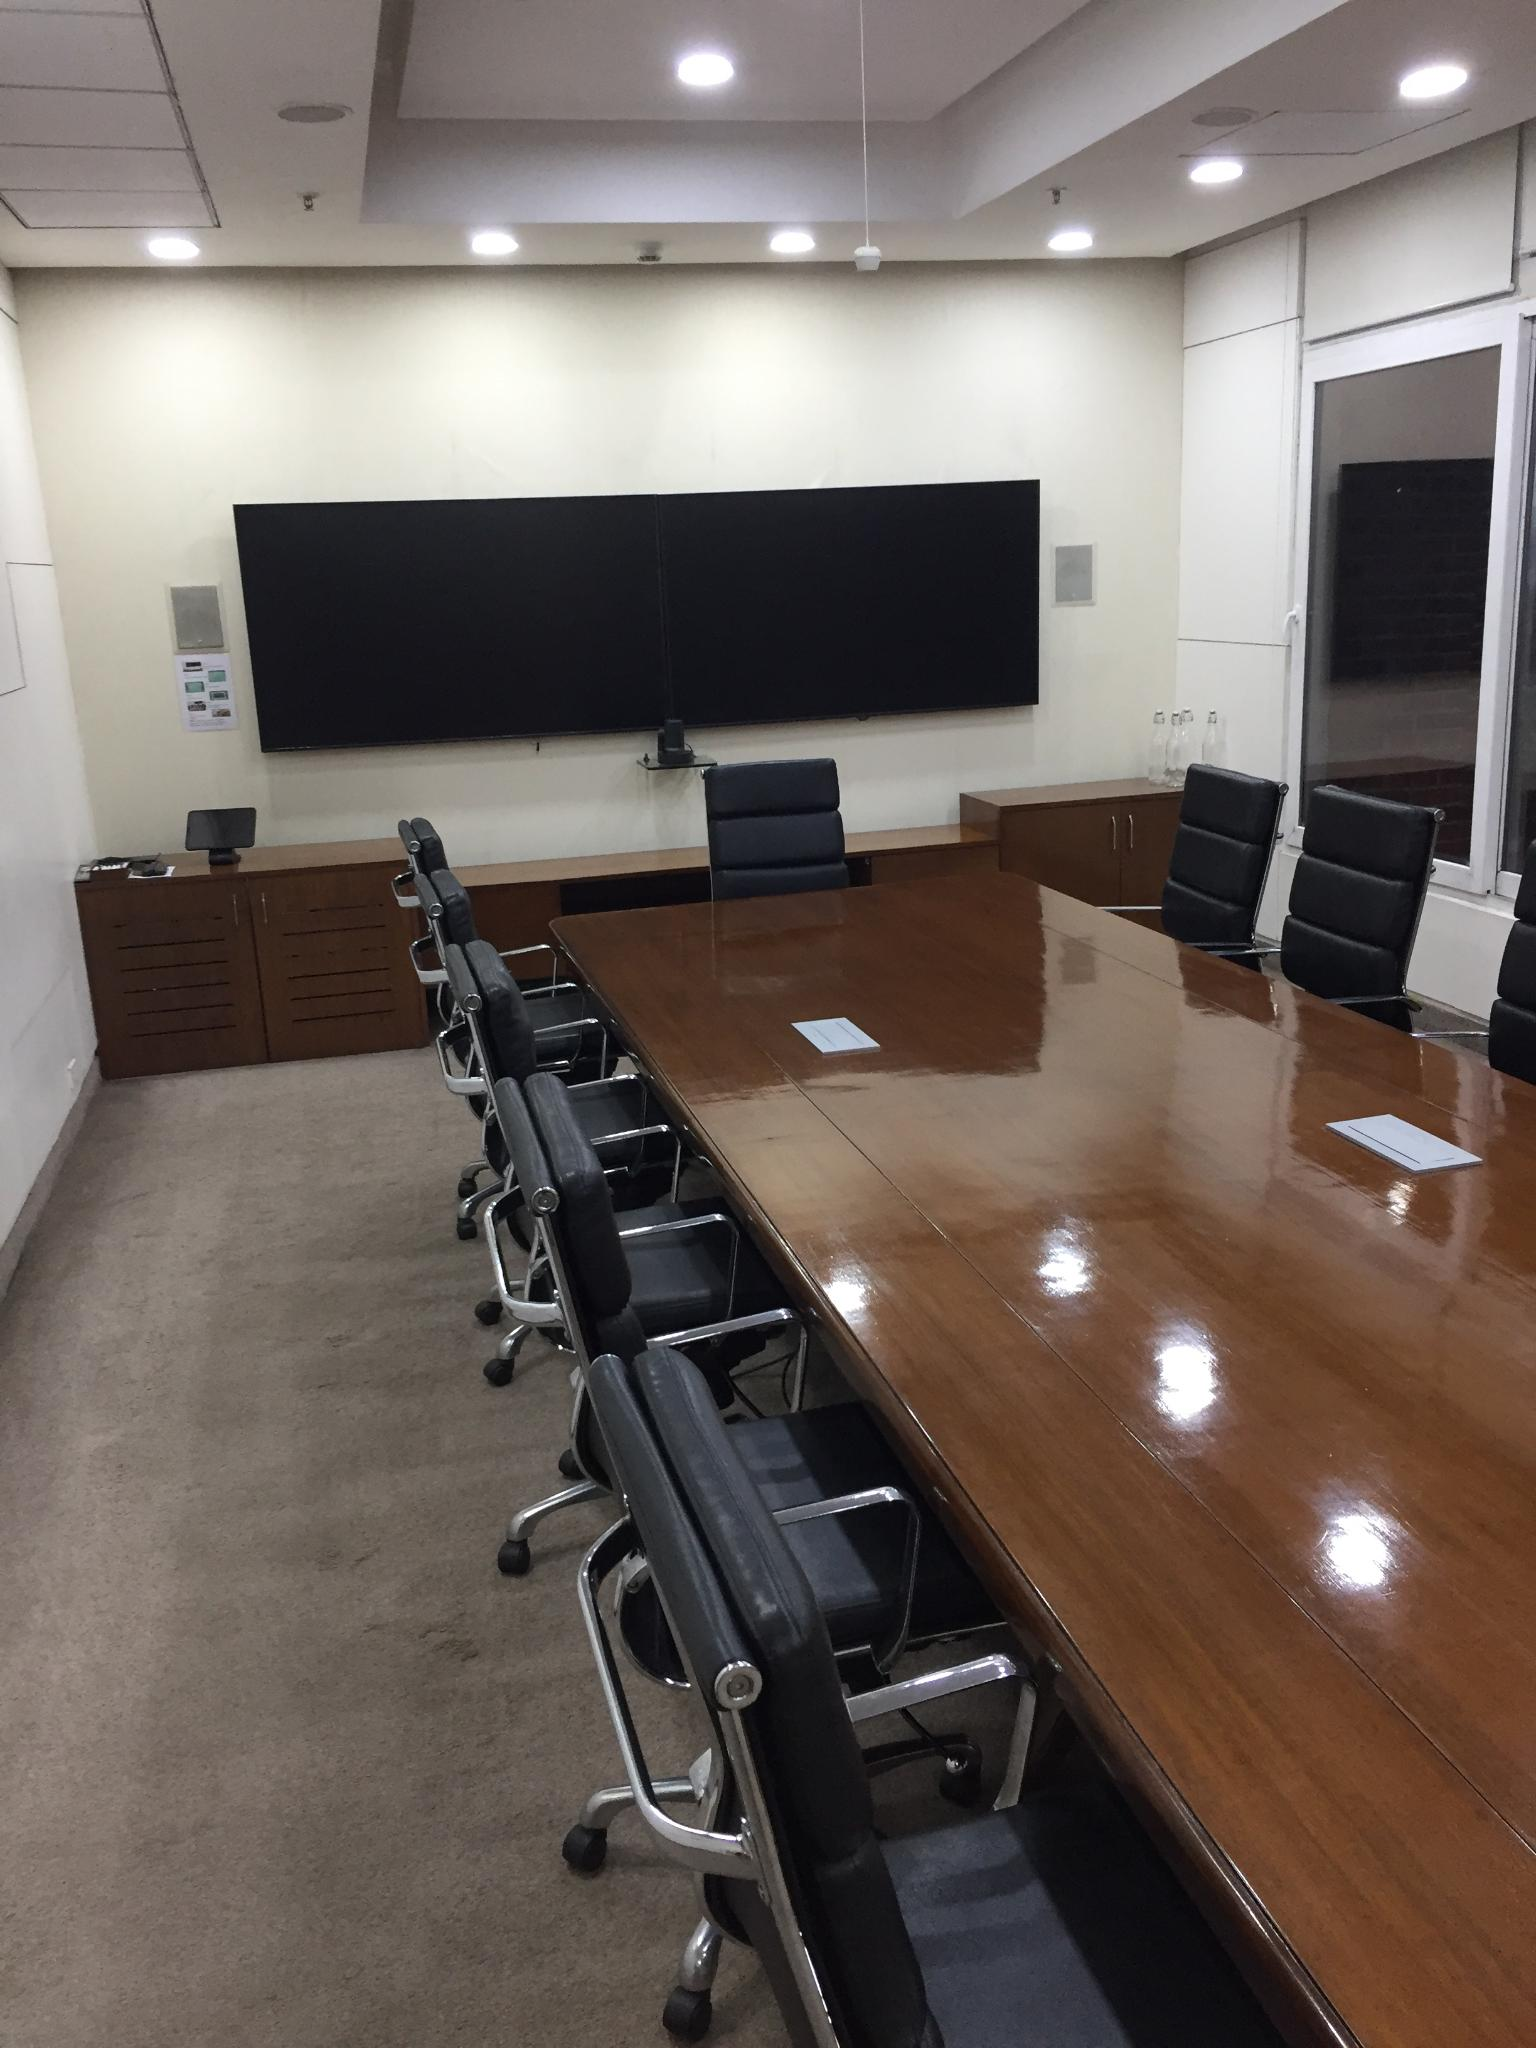chair: (557, 1369, 1291, 2048), (402, 1080, 921, 1593), (381, 955, 718, 1256), (1205, 782, 1442, 1034), (378, 876, 624, 1055), (1102, 761, 1288, 964), (702, 756, 873, 901), (395, 848, 550, 982)
